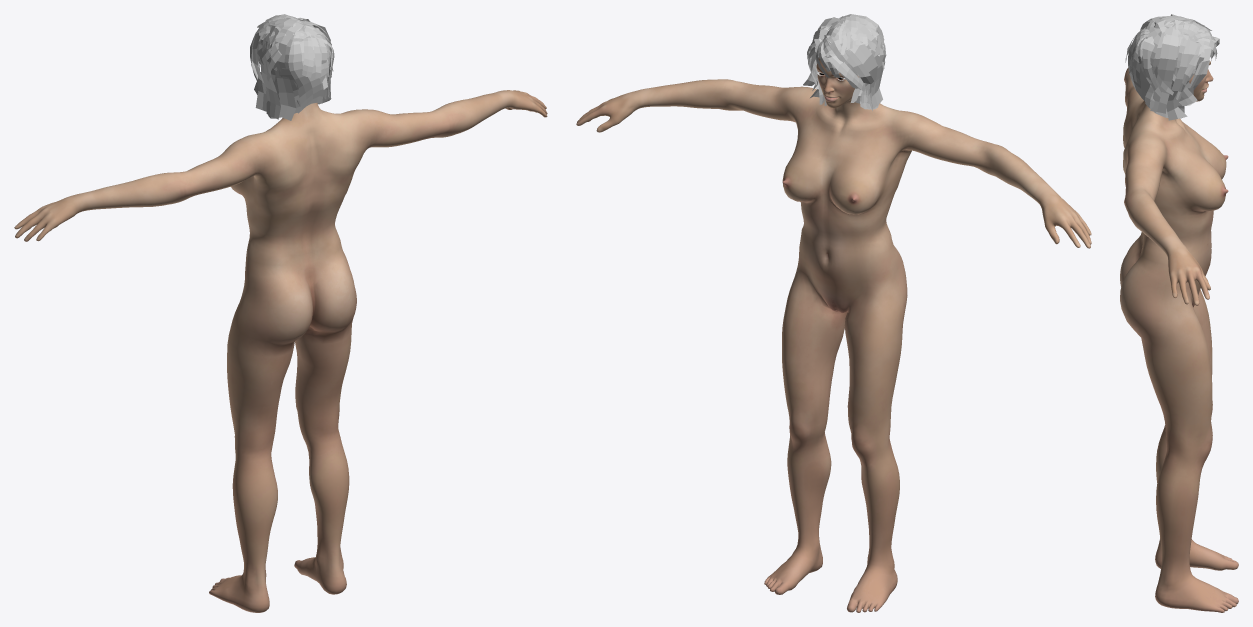
File: Female_Body.fbx
3 views of the same model, side by side, from view 1: azimuth 30°, elevation 25°; view 2: azimuth 150°, elevation 25°; view 3: azimuth 270°, elevation 25° (orthographic). The views are drawn at different scales.
Parts seen in each view (by area): view 1: Female_Body, Female_Body_LongHair, Female_Body_ShortHair; view 2: Female_Body, Female_Body_LongHair, Female_Body_ShortHair; view 3: Female_Body, Female_Body_LongHair, Female_Body_ShortHair.
Boxes of the visible parts, x1,y1,x2,y2 form: Female_Body: (14, 90, 547, 612); Female_Body_LongHair: (250, 18, 331, 120); Female_Body_ShortHair: (254, 14, 334, 94); Female_Body: (576, 57, 1091, 612); Female_Body_LongHair: (807, 14, 885, 110); Female_Body_ShortHair: (803, 16, 886, 103); Female_Body: (1120, 61, 1238, 612); Female_Body_LongHair: (1128, 14, 1219, 120); Female_Body_ShortHair: (1125, 16, 1217, 105).
Bounding box in the file's own units: 173 × 182 × 34.49.
4 materials, 1 textured.
